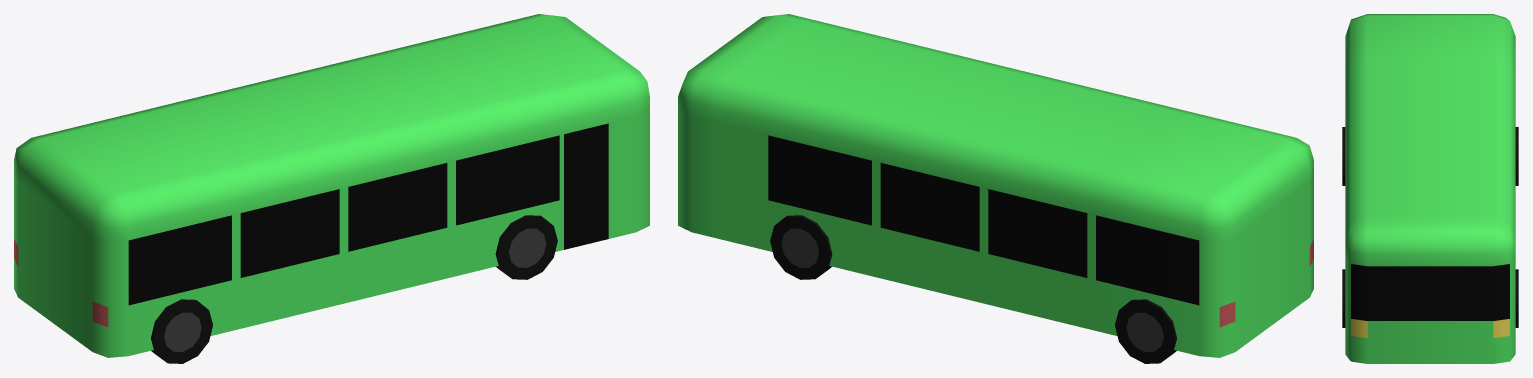
The model's file is Bus.FBX.
The picture shows the model from 3 angles, left to right: view 1: azimuth 30°, elevation 25°; view 2: azimuth 150°, elevation 25°; view 3: azimuth 270°, elevation 25°; orthographic projection. The views are drawn at different scales.
Visible parts, largest first — view 1: Bus; view 2: Bus; view 3: Bus.
Part boxes in pixels (<box>): Bus: <box>14,14,649,363</box>; Bus: <box>678,14,1313,363</box>; Bus: <box>1342,14,1518,363</box>.
Size of the model in its own units: 1581 by 471 by 516.
